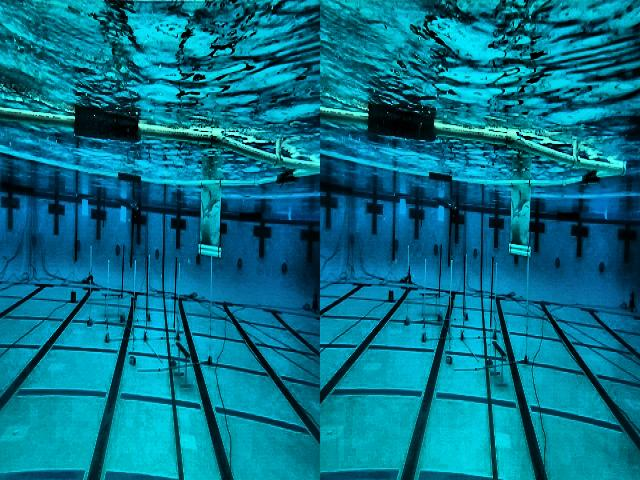gate: (75, 194, 136, 268), (392, 193, 453, 267)
octagon_top: (0, 101, 320, 262), (321, 100, 625, 262)
path_marker: (172, 338, 192, 390), (490, 339, 508, 388), (100, 289, 125, 322), (419, 291, 441, 321)
shark: (198, 185, 222, 259), (508, 183, 531, 258)
